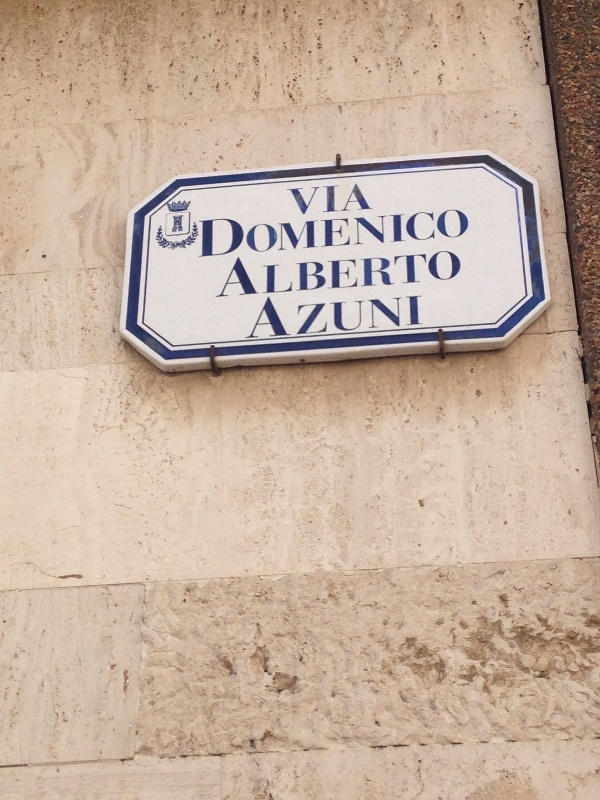text: (225, 241, 240, 314), (241, 241, 256, 314), (257, 241, 272, 314), (273, 241, 288, 314), (289, 241, 304, 314), (305, 241, 320, 314), (321, 241, 336, 314), (337, 241, 352, 314), (353, 241, 368, 314), (369, 241, 384, 314), (385, 241, 400, 314), (401, 241, 416, 314), (417, 241, 432, 314), (433, 241, 448, 314), (449, 241, 464, 314), (241, 280, 256, 352), (257, 280, 272, 352), (273, 280, 288, 352), (289, 280, 304, 352), (305, 280, 320, 352), (321, 280, 336, 352), (337, 280, 352, 352), (353, 280, 368, 352), (369, 280, 384, 352), (385, 280, 400, 352), (401, 280, 416, 352), (209, 202, 224, 271), (225, 202, 240, 271), (241, 202, 256, 271), (257, 202, 272, 271), (273, 202, 288, 271), (289, 202, 304, 271), (305, 202, 320, 271), (321, 202, 336, 271), (337, 202, 352, 271), (353, 202, 368, 271), (369, 202, 384, 271), (385, 202, 400, 271), (401, 202, 416, 271), (417, 202, 432, 271), (433, 202, 448, 271), (449, 202, 464, 271), (214, 241, 224, 314), (417, 280, 427, 352), (289, 177, 304, 222), (305, 177, 320, 222), (321, 177, 336, 222), (337, 177, 352, 222), (353, 177, 368, 222), (199, 202, 208, 271), (465, 202, 473, 271), (369, 177, 374, 222), (285, 177, 288, 222)
